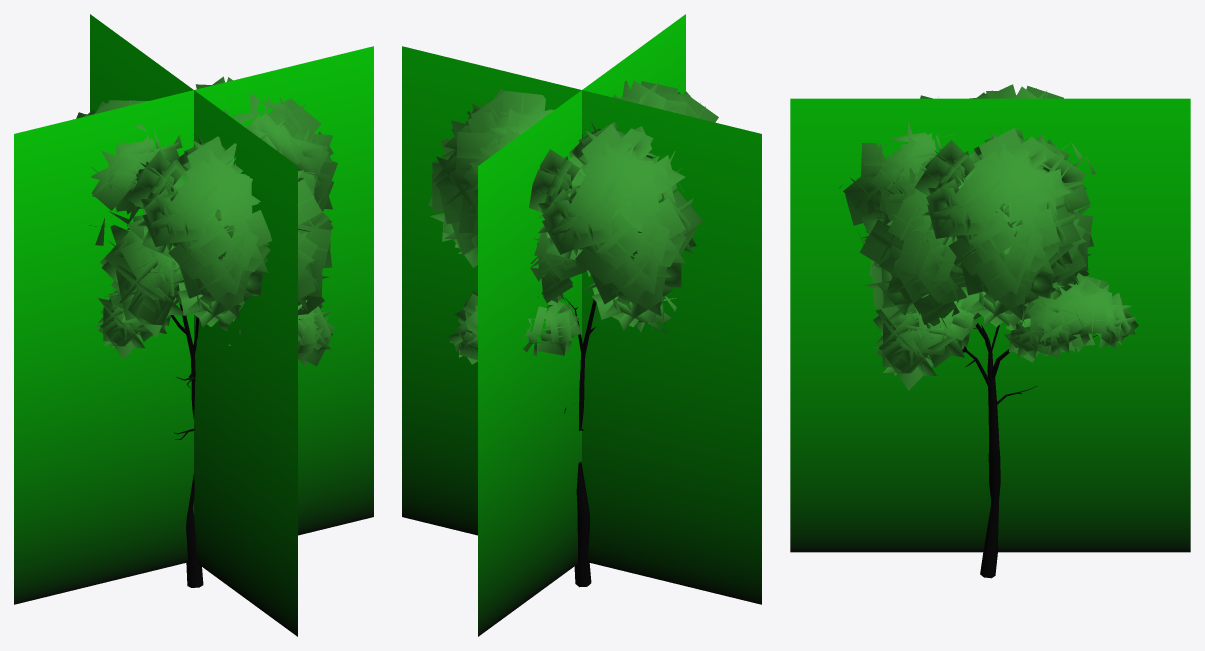
File: IL3DN_Tree_Birch_01.FBX
3 views of the same model, side by side, from view 1: azimuth 30°, elevation 25°; view 2: azimuth 150°, elevation 25°; view 3: azimuth 270°, elevation 25° (orthographic). The views are drawn at different scales.
Parts seen in each view (by area): view 1: IL3DN_Tree_Birch_01_Card, IL3DN_Tree_Birch_01_Leaves_LOD0, IL3DN_Tree_Birch_01_Branch_LOD0; view 2: IL3DN_Tree_Birch_01_Card, IL3DN_Tree_Birch_01_Leaves_LOD0, IL3DN_Tree_Birch_01_Branch_LOD0; view 3: IL3DN_Tree_Birch_01_Card, IL3DN_Tree_Birch_01_Leaves_LOD0, IL3DN_Tree_Birch_01_Branch_LOD0.
Boxes of the visible parts, x1,y1,x2,y2 form: IL3DN_Tree_Birch_01_Card: (14, 14, 373, 636); IL3DN_Tree_Birch_01_Leaves_LOD0: (76, 76, 337, 367); IL3DN_Tree_Birch_01_Branch_LOD0: (171, 134, 309, 587); IL3DN_Tree_Birch_01_Card: (402, 14, 761, 636); IL3DN_Tree_Birch_01_Leaves_LOD0: (428, 80, 718, 364); IL3DN_Tree_Birch_01_Branch_LOD0: (564, 134, 641, 587); IL3DN_Tree_Birch_01_Card: (790, 98, 1190, 552); IL3DN_Tree_Birch_01_Leaves_LOD0: (839, 84, 1138, 390); IL3DN_Tree_Birch_01_Branch_LOD0: (885, 182, 1097, 578).
Size of what is drawn, in the model's own units: 157 by 207 by 157.
